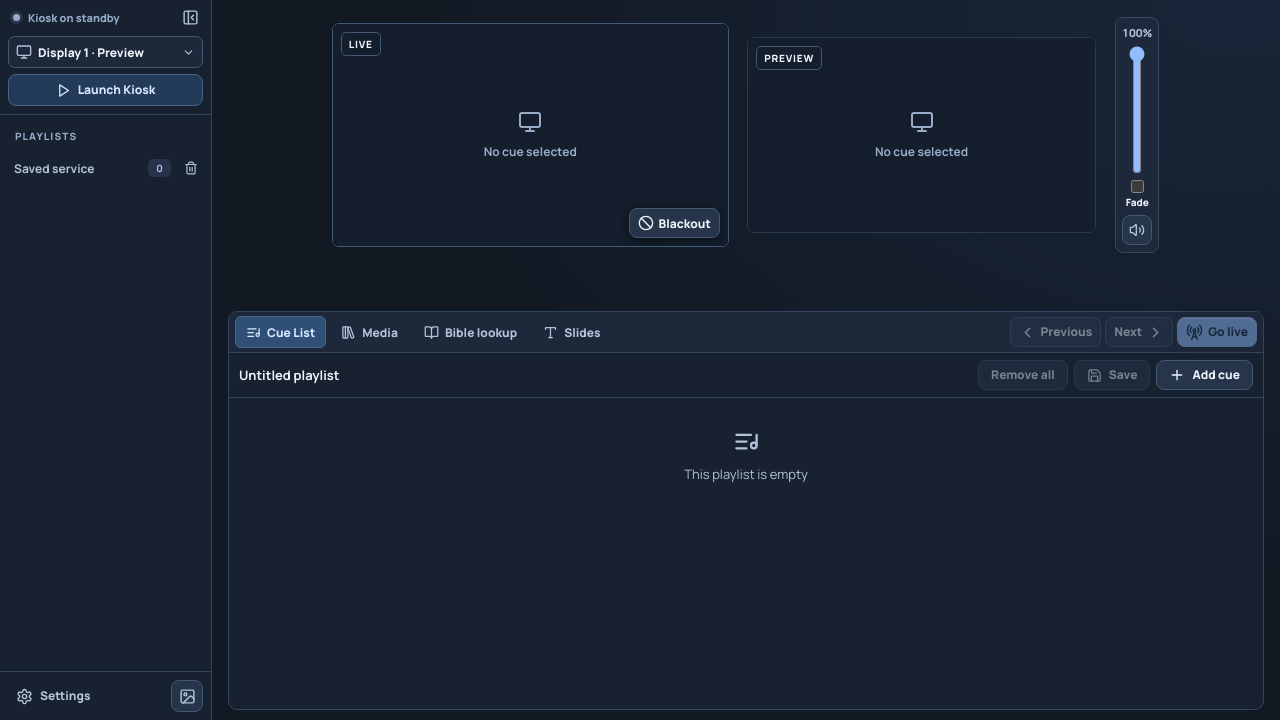
it: saves two rapid edits in order while the first write is pending
Check: the text "Media sources" is not shown
Step 1. Click the tab "Media" → (370, 332), box [330,316,409,348]
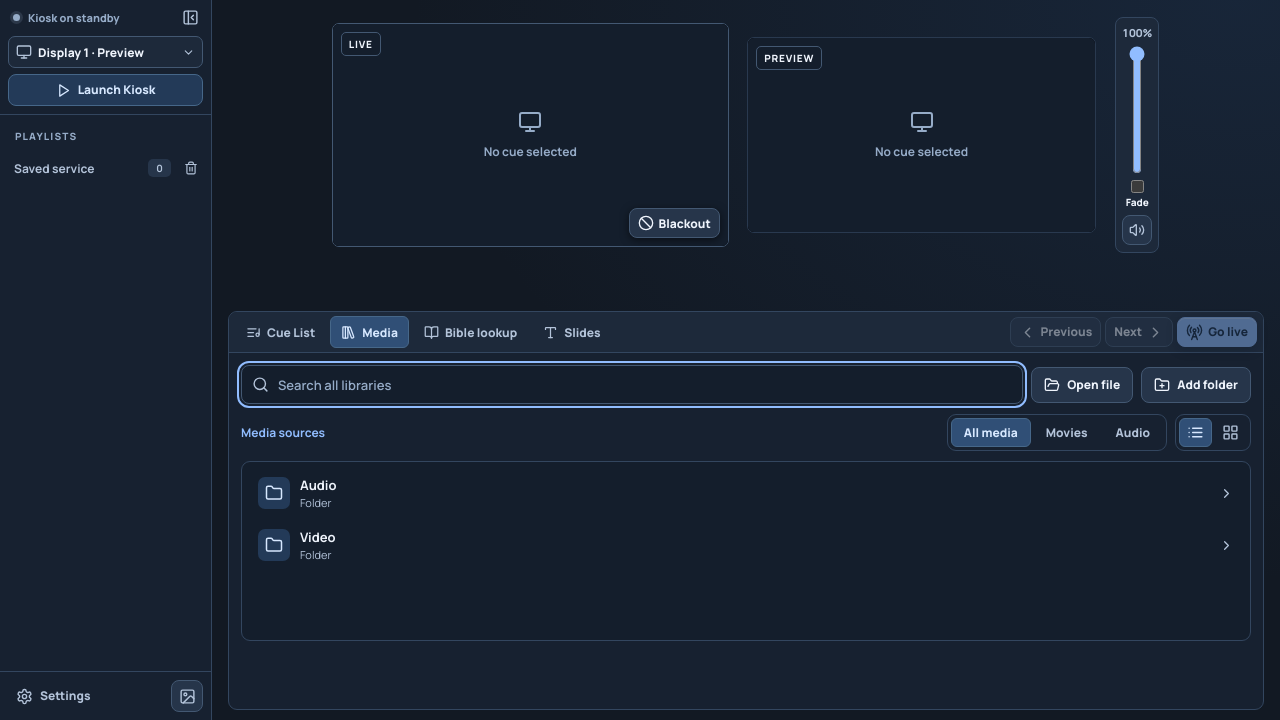
Step 2. Click the button "Audio Folder" → (274, 493), box [248,468,1244,518]
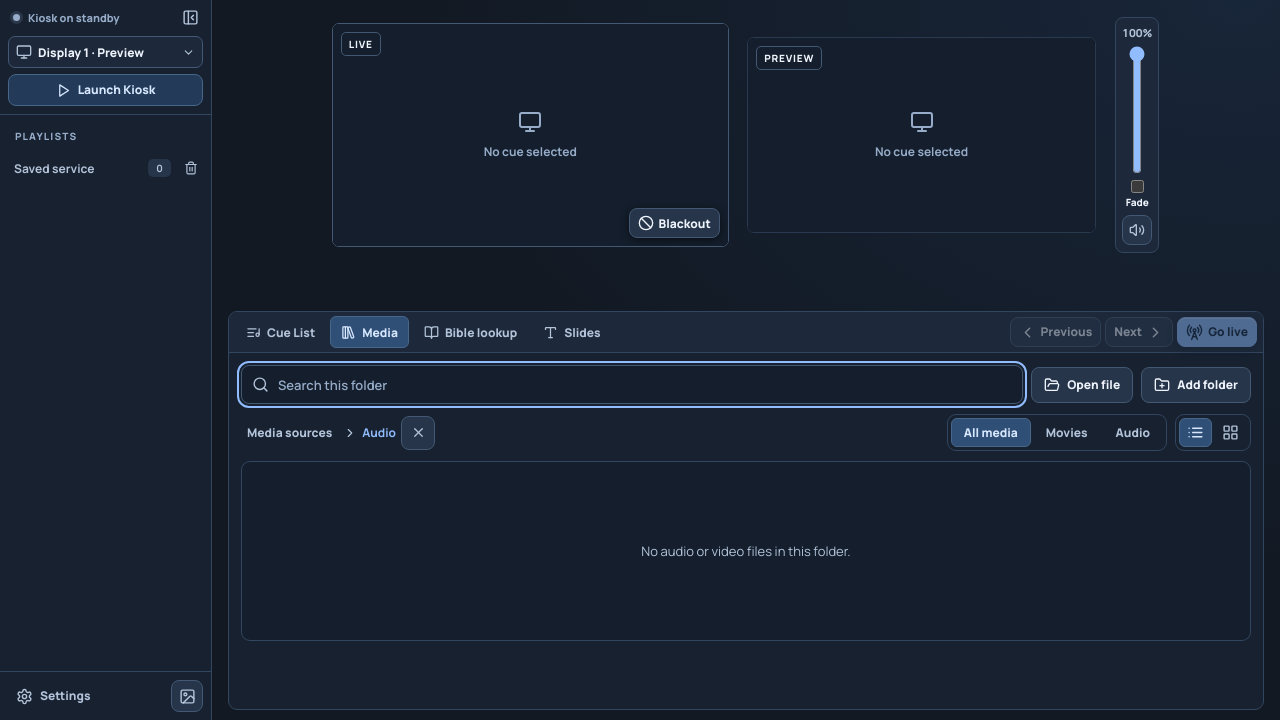
Step 3. Click the button named "Remove source Audio" → (418, 432), box [401,416,435,450]
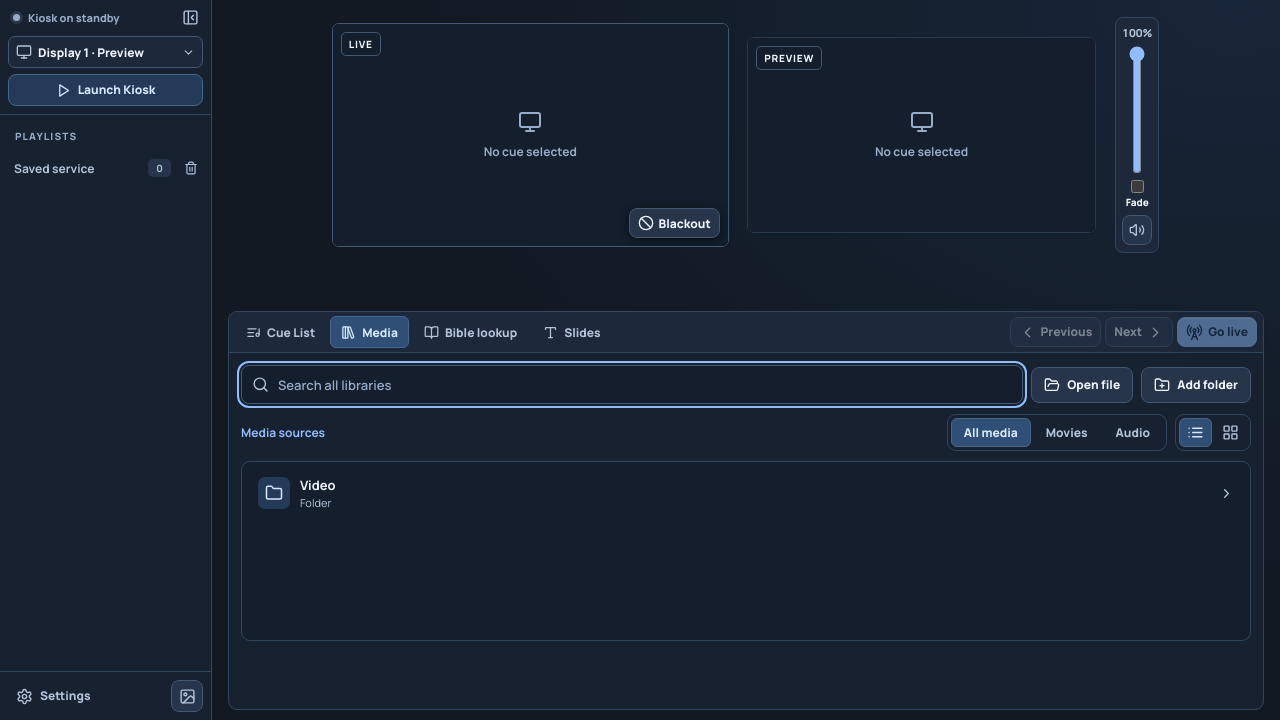
Check: the text "Media sources" is shown, box [241,424,325,441]
Step 4. Click the button "Video Folder" → (274, 493), box [248,468,1244,518]
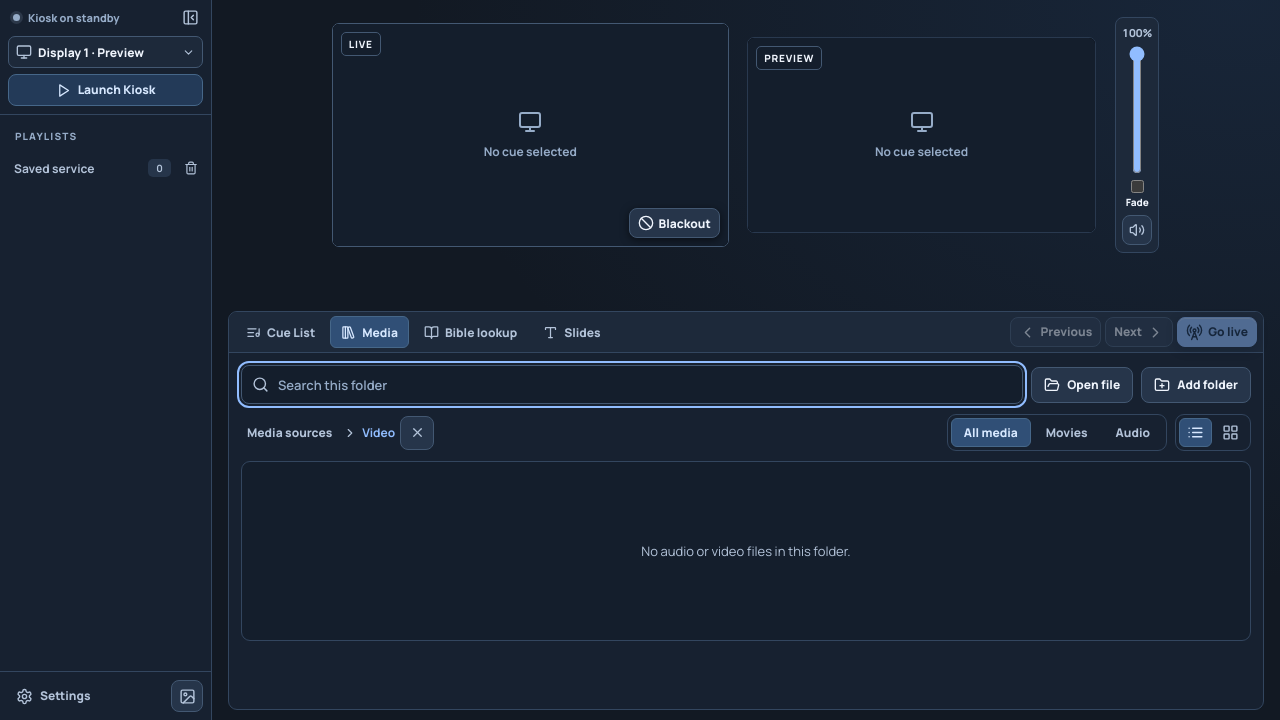
Step 5. Click the button named "Remove source Video" → (417, 432), box [400,416,434,450]
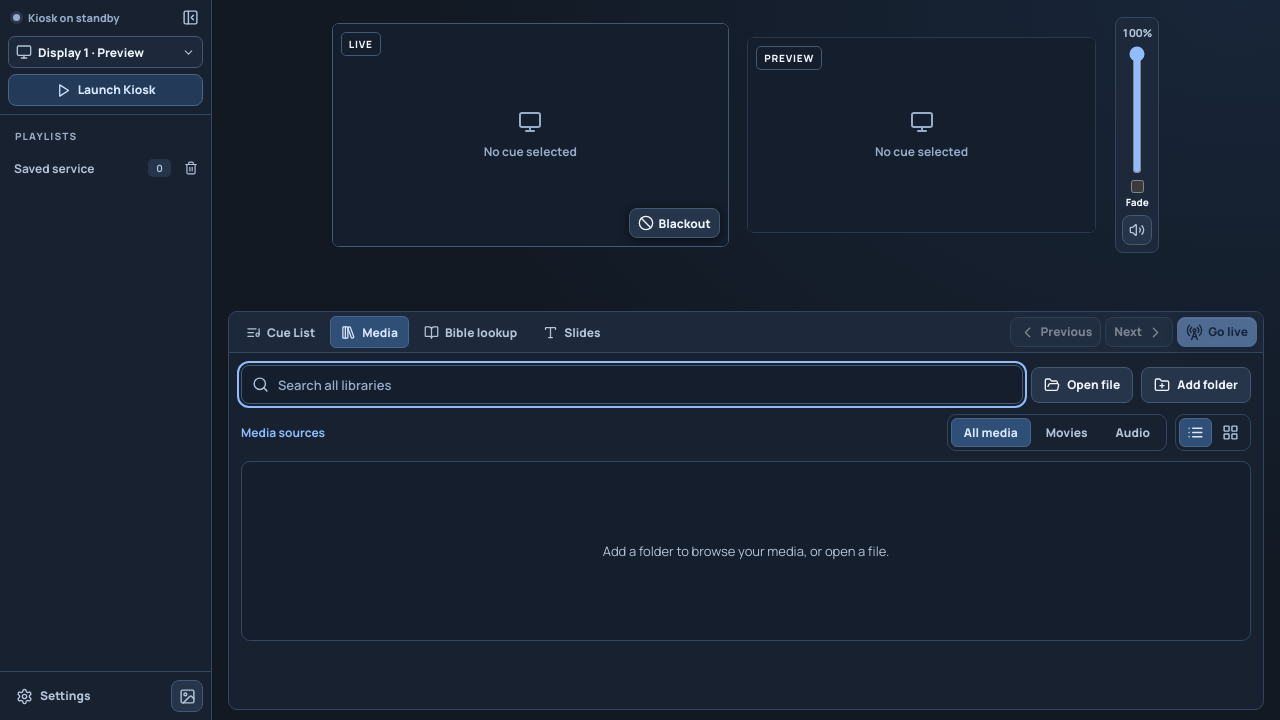
Check: the text "Media sources" is shown, box [241,424,325,441]
